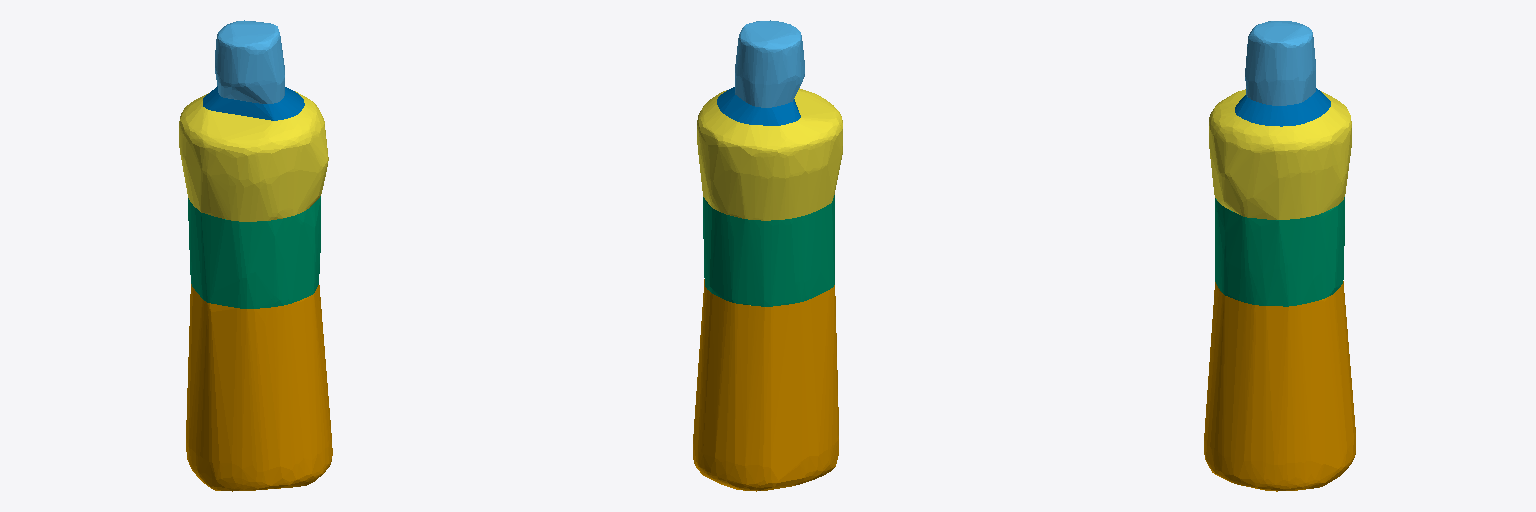
The robot description file, URDF, robot "root":
<?xml version='1.0' encoding='UTF-8'?>
<robot name="root">
  <link name="link_convex_piece_000.obj">
    <inertial>
      <origin xyz="0 0 0" rpy="0 0 0"/>
    </inertial>
    <visual>
      <origin xyz="0 0 0" rpy="0 0 0"/>
      <geometry>
        <mesh filename="meshes/convex_piece_000.obj" scale="1.0 1.0 1.0"/>
      </geometry>
    </visual>
    <collision>
      <origin xyz="0 0 0" rpy="0 0 0"/>
      <geometry>
        <mesh filename="meshes/convex_piece_000.obj" scale="1.0 1.0 1.0"/>
      </geometry>
    </collision>
  </link>
  <link name="link_convex_piece_001.obj">
    <inertial>
      <origin xyz="0 0 0" rpy="0 0 0"/>
    </inertial>
    <visual>
      <origin xyz="0 0 0" rpy="0 0 0"/>
      <geometry>
        <mesh filename="meshes/convex_piece_001.obj" scale="1.0 1.0 1.0"/>
      </geometry>
    </visual>
    <collision>
      <origin xyz="0 0 0" rpy="0 0 0"/>
      <geometry>
        <mesh filename="meshes/convex_piece_001.obj" scale="1.0 1.0 1.0"/>
      </geometry>
    </collision>
  </link>
  <link name="link_convex_piece_002.obj">
    <inertial>
      <origin xyz="0 0 0" rpy="0 0 0"/>
    </inertial>
    <visual>
      <origin xyz="0 0 0" rpy="0 0 0"/>
      <geometry>
        <mesh filename="meshes/convex_piece_002.obj" scale="1.0 1.0 1.0"/>
      </geometry>
    </visual>
    <collision>
      <origin xyz="0 0 0" rpy="0 0 0"/>
      <geometry>
        <mesh filename="meshes/convex_piece_002.obj" scale="1.0 1.0 1.0"/>
      </geometry>
    </collision>
  </link>
  <link name="link_convex_piece_003.obj">
    <inertial>
      <origin xyz="0 0 0" rpy="0 0 0"/>
    </inertial>
    <visual>
      <origin xyz="0 0 0" rpy="0 0 0"/>
      <geometry>
        <mesh filename="meshes/convex_piece_003.obj" scale="1.0 1.0 1.0"/>
      </geometry>
    </visual>
    <collision>
      <origin xyz="0 0 0" rpy="0 0 0"/>
      <geometry>
        <mesh filename="meshes/convex_piece_003.obj" scale="1.0 1.0 1.0"/>
      </geometry>
    </collision>
  </link>
  <link name="link_convex_piece_004.obj">
    <inertial>
      <origin xyz="0 0 0" rpy="0 0 0"/>
    </inertial>
    <visual>
      <origin xyz="0 0 0" rpy="0 0 0"/>
      <geometry>
        <mesh filename="meshes/convex_piece_004.obj" scale="1.0 1.0 1.0"/>
      </geometry>
    </visual>
    <collision>
      <origin xyz="0 0 0" rpy="0 0 0"/>
      <geometry>
        <mesh filename="meshes/convex_piece_004.obj" scale="1.0 1.0 1.0"/>
      </geometry>
    </collision>
  </link>
  <joint name="link_convex_piece_001.obj_joint" type="fixed">
    <origin xyz="0 0 0" rpy="0 0 0"/>
    <parent link="link_convex_piece_000.obj"/>
    <child link="link_convex_piece_001.obj"/>
  </joint>
  <joint name="link_convex_piece_002.obj_joint" type="fixed">
    <origin xyz="0 0 0" rpy="0 0 0"/>
    <parent link="link_convex_piece_000.obj"/>
    <child link="link_convex_piece_002.obj"/>
  </joint>
  <joint name="link_convex_piece_003.obj_joint" type="fixed">
    <origin xyz="0 0 0" rpy="0 0 0"/>
    <parent link="link_convex_piece_000.obj"/>
    <child link="link_convex_piece_003.obj"/>
  </joint>
  <joint name="link_convex_piece_004.obj_joint" type="fixed">
    <origin xyz="0 0 0" rpy="0 0 0"/>
    <parent link="link_convex_piece_000.obj"/>
    <child link="link_convex_piece_004.obj"/>
  </joint>
</robot>

--- Facts derived from the render (not from the file) ---
3 views of the same robot in one strip: view 1: azimuth 30°, elevation 25°; view 2: azimuth 150°, elevation 25°; view 3: azimuth 270°, elevation 25° (orthographic).
Robot: root — 5 links, 4 joints (4 fixed); root link link_convex_piece_000.obj; default pose: every joint at zero.
Links seen in each view (by area): view 1: link_convex_piece_000.obj, link_convex_piece_003.obj, link_convex_piece_002.obj, link_convex_piece_001.obj, link_convex_piece_004.obj; view 2: link_convex_piece_000.obj, link_convex_piece_003.obj, link_convex_piece_002.obj, link_convex_piece_001.obj, link_convex_piece_004.obj; view 3: link_convex_piece_000.obj, link_convex_piece_003.obj, link_convex_piece_002.obj, link_convex_piece_001.obj, link_convex_piece_004.obj.
Boxes of the visible links, left/top/right/bottom form: link_convex_piece_000.obj: left=186, top=284, right=332, bottom=491; link_convex_piece_003.obj: left=179, top=91, right=328, bottom=221; link_convex_piece_002.obj: left=188, top=196, right=320, bottom=308; link_convex_piece_001.obj: left=215, top=20, right=284, bottom=103; link_convex_piece_004.obj: left=203, top=86, right=304, bottom=120; link_convex_piece_000.obj: left=693, top=279, right=838, bottom=491; link_convex_piece_003.obj: left=697, top=88, right=842, bottom=220; link_convex_piece_002.obj: left=703, top=195, right=834, bottom=306; link_convex_piece_001.obj: left=735, top=20, right=804, bottom=107; link_convex_piece_004.obj: left=717, top=87, right=800, bottom=125; link_convex_piece_000.obj: left=1204, top=281, right=1355, bottom=491; link_convex_piece_003.obj: left=1209, top=89, right=1351, bottom=219; link_convex_piece_002.obj: left=1215, top=197, right=1344, bottom=306; link_convex_piece_001.obj: left=1245, top=21, right=1315, bottom=105; link_convex_piece_004.obj: left=1235, top=88, right=1330, bottom=126.
Bounding box of the posed robot: 0.07 × 0.0706 × 0.2228 m (x, y, z).
5 mesh visuals loaded from 5 distinct referenced files (5 OBJ).
